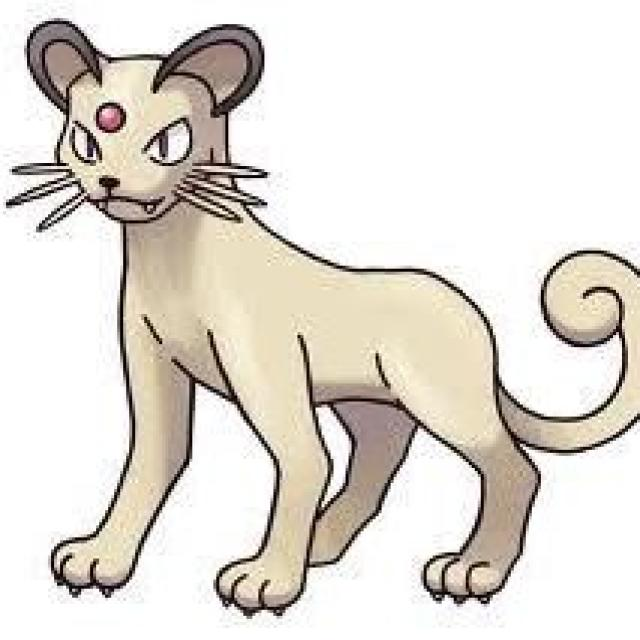Persian: (14, 24, 550, 614)
